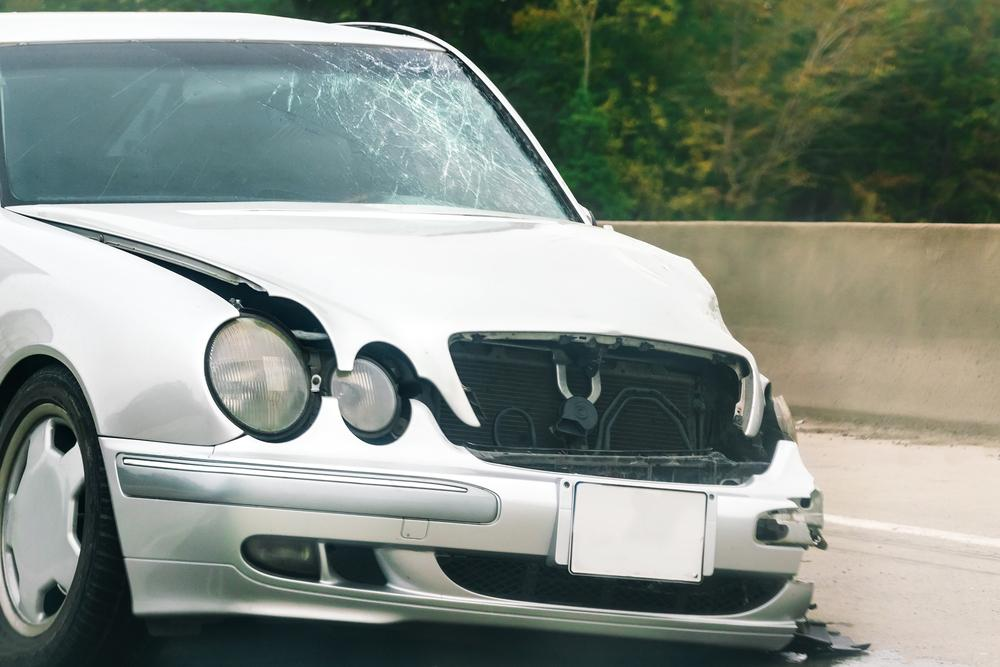glass shatter: (0, 43, 575, 220)
